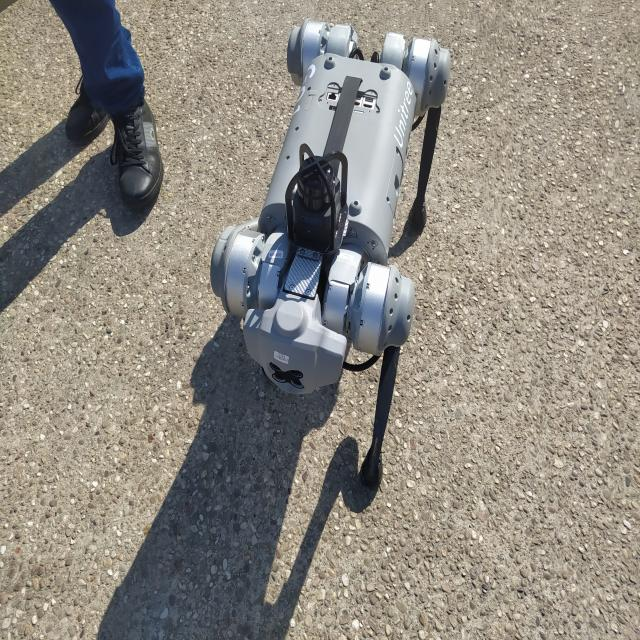unitree-go1-robot: (219, 21, 442, 488)
